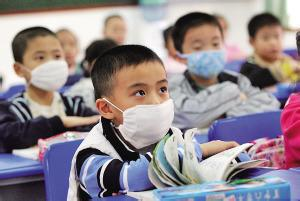NONE: (258, 33, 283, 59), (58, 39, 77, 61)
OK: (185, 34, 229, 79), (25, 48, 68, 91)
WRONG: (109, 79, 177, 145)
